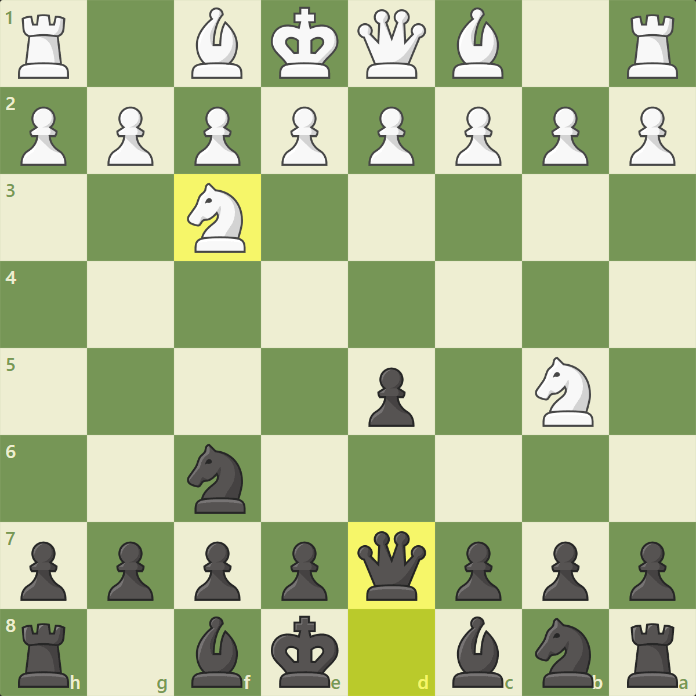B: (187, 4, 246, 83), (448, 3, 507, 82)
K: (266, 5, 342, 82)
N: (184, 181, 248, 257), (532, 355, 595, 430)
P: (15, 104, 70, 170), (102, 102, 157, 168), (189, 103, 244, 169), (275, 103, 330, 169), (361, 102, 416, 168), (449, 103, 504, 169), (538, 103, 593, 169), (624, 103, 679, 169)
Q: (354, 6, 429, 82)
R: (15, 10, 71, 82), (625, 11, 680, 83)
b: (185, 614, 246, 692), (448, 614, 507, 692)
k: (267, 613, 341, 692)
n: (531, 617, 598, 692), (185, 442, 248, 518)
p: (365, 364, 419, 431), (16, 537, 70, 604), (101, 537, 155, 604), (189, 536, 243, 603), (276, 537, 330, 604), (450, 536, 504, 603), (538, 537, 592, 604), (625, 537, 679, 604)
r: (15, 620, 74, 692), (623, 620, 682, 692)
